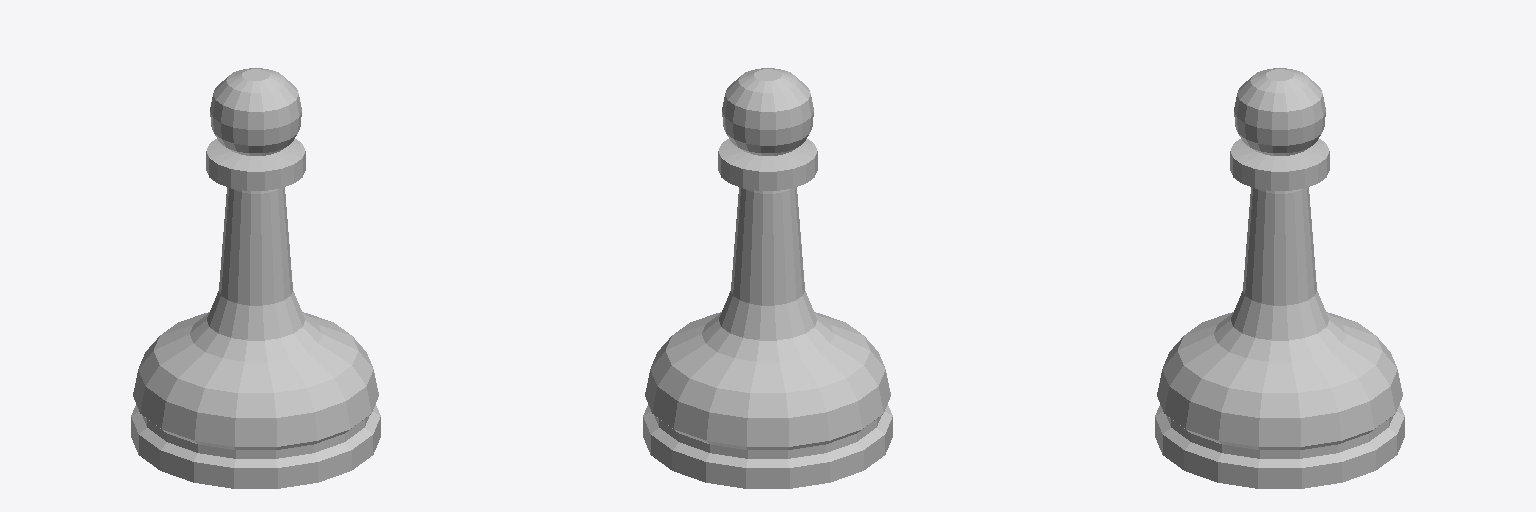
The model's file is pawn.obj.
3 renders of one model, left to right at view 1: azimuth 30°, elevation 25°; view 2: azimuth 150°, elevation 25°; view 3: azimuth 270°, elevation 25°, orthographic.
Visible parts, largest first — view 1: Circle.001; view 2: Circle.001; view 3: Circle.001.
Boxes of the visible parts, box(x1,y1,x2,y2) form: Circle.001: box(131, 68, 380, 488); Circle.001: box(643, 68, 892, 488); Circle.001: box(1155, 68, 1404, 488).
Size of the model in its own units: 1.58 by 2.56 by 1.6.